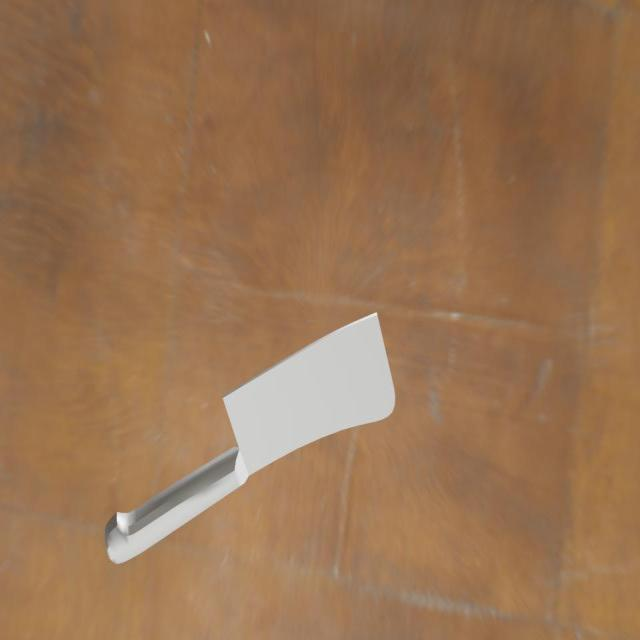knife: (96, 451, 246, 575)
